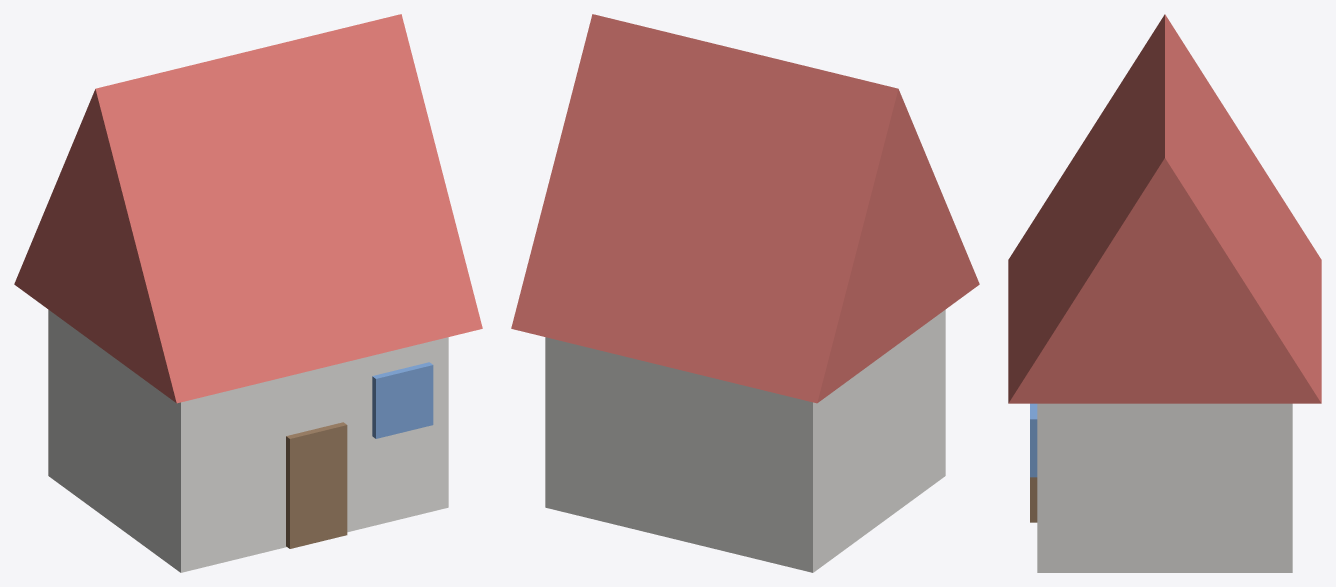
File: casa.glb
3 renders of one model, left to right at view 1: azimuth 30°, elevation 25°; view 2: azimuth 150°, elevation 25°; view 3: azimuth 270°, elevation 25°, orthographic. The views are drawn at different scales.
Parts seen in each view (by area): view 1: casa; view 2: casa; view 3: casa.
Boxes of the visible parts, x1=… form: casa: x1=14, y1=14, x2=482, y2=572; casa: x1=511, y1=14, x2=979, y2=572; casa: x1=1008, y1=14, x2=1321, y2=572.
Size of the model in its own units: 1.6 by 2.2 by 1.47.
